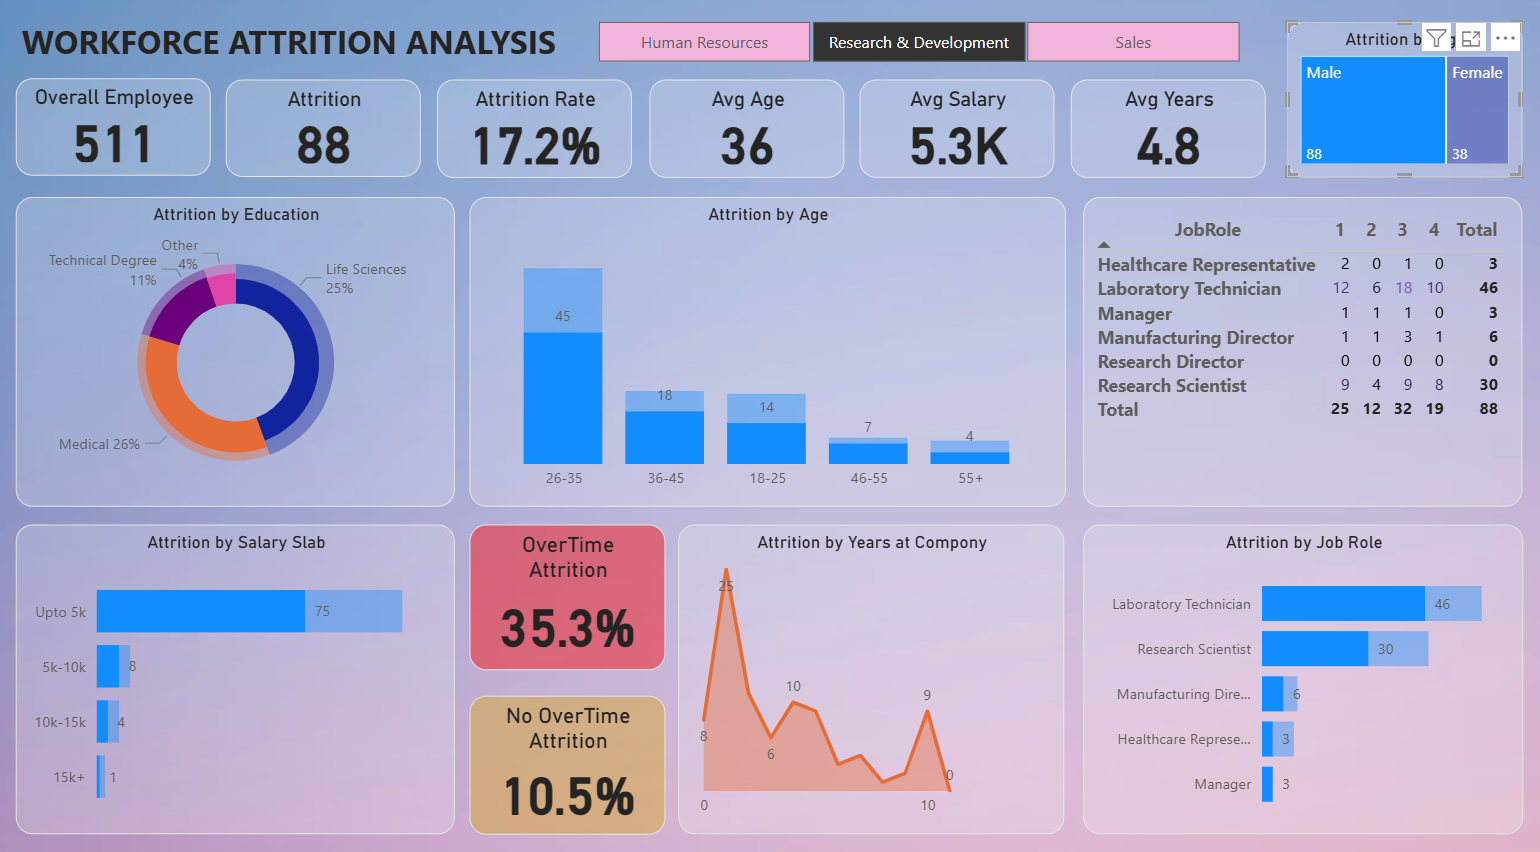

Layout of this report page (visuals, bound fields, positions):
{"tool":"powerbi","page":{"name":"Page 1","canvas":[1280,720],"ordinal":0},"visuals":[{"type":"card","title":"Overall Employee","fields":{"Values":["Count(HR_Analytics.EmpID)"]},"box":[15.8,71.6,161.9,81],"z":0},{"type":"card","title":"Attrition","fields":{"Values":["Sum(HR_Analytics.Attrition Count)"]},"box":[190.1,72.9,161.9,81],"z":1000},{"type":"card","title":"Attrition Rate","fields":{"Values":["HR_Analytics.AttritionRate"]},"box":[365,72.7,161.9,81.2],"z":2000},{"type":"card","title":"Avg Age","fields":{"Values":["Avg(HR_Analytics.Age)"]},"box":[540.6,72.7,161.9,81.2],"z":3000},{"type":"card","title":"Avg Salary","fields":{"Values":["Avg(HR_Analytics.MonthlyIncome)"]},"box":[715,72.7,161.9,81.2],"z":4000},{"type":"card","title":"Avg Years","fields":{"Values":["Avg(HR_Analytics.YearsAtCompany)"]},"box":[890,72.7,161.9,81.2],"z":5000},{"type":"donutChart","title":"Attrition by Education","fields":{"Category":["HR_Analytics.EducationField"],"Y":["Sum(HR_Analytics.Attrition Count)"]},"box":[15.7,170,364.3,257.1],"z":6000},{"type":"columnChart","title":"Attrition by Age","fields":{"Category":["HR_Analytics.AgeGroup"],"Y":["Sum(HR_Analytics.Attrition Count)"]},"box":[391.4,170,494.3,257.1],"z":7000},{"type":"pivotTable","fields":{"Rows":["HR_Analytics.JobRole"],"Columns":["HR_Analytics.JobSatisfaction"],"Values":["Sum(HR_Analytics.Attrition Count)"]},"box":[900.2,170.2,363.6,256.6],"z":8000},{"type":"barChart","title":"Attrition by Salary Slab","fields":{"Category":["HR_Analytics.SalarySlab"],"Y":["Sum(HR_Analytics.Attrition Count)"]},"box":[15.7,441.4,364.3,257.1],"z":9000},{"type":"clusteredBarChart","title":"Attrition by Job Role","fields":{"Category":["HR_Analytics.JobRole"],"Y":["Sum(HR_Analytics.Attrition Count)"]},"box":[900.2,441.9,365,256.6],"z":10000},{"type":"areaChart","title":"Attrition by Years at Compony","fields":{"Category":["HR_Analytics.YearsAtCompany"],"Y":["Sum(HR_Analytics.Attrition Count)"]},"box":[565.1,441.8,320.1,256.7],"z":11000},{"type":"treemap","title":"Attrition by Age","fields":{"Group":["HR_Analytics.Gender"],"Values":["Sum(HR_Analytics.Attrition Count)"]},"box":[1069,24.7,194.9,129],"z":12000},{"type":"slicer","fields":{"Values":["HR_Analytics.Department"]},"box":[472.9,17.1,581.4,47.1],"z":13000},{"type":"textbox","box":[15.7,17.1,464.3,71.4],"z":14000},{"type":"card","title":"No OverTime Attrition","fields":{"Values":["HR_Analytics.Attrition Rate (OverTime No)"]},"box":[391.5,583.1,162.3,115.4],"z":15000},{"type":"card","title":"OverTime  Attrition","fields":{"Values":["HR_Analytics.Attrition Rate (OverTime Yes)"]},"box":[391.5,441.5,162.3,120.8],"z":16000}]}

Visuals, with their boxes in screenshot pixels (x1, y1, x2, y2), scaled from the page's 1280x720 canvas onto the 1540x852 screenshot:
"Overall Employee" card: <box>19,85,214,181</box>
"Attrition" card: <box>229,86,424,182</box>
"Attrition Rate" card: <box>439,86,634,182</box>
"Avg Age" card: <box>650,86,845,182</box>
"Avg Salary" card: <box>860,86,1055,182</box>
"Avg Years" card: <box>1071,86,1266,182</box>
"Attrition by Education" donutChart: <box>19,201,457,505</box>
"Attrition by Age" columnChart: <box>471,201,1066,505</box>
pivotTable - HR_Analytics.JobRole x HR_Analytics.JobSatisfaction: <box>1083,201,1521,505</box>
"Attrition by Salary Slab" barChart: <box>19,522,457,827</box>
"Attrition by Job Role" clusteredBarChart: <box>1083,523,1522,827</box>
"Attrition by Years at Compony" areaChart: <box>680,523,1065,827</box>
"Attrition by Age" treemap: <box>1286,29,1521,182</box>
slicer - HR_Analytics.Department: <box>569,20,1268,76</box>
textbox: <box>19,20,578,105</box>
"No OverTime Attrition" card: <box>471,690,666,827</box>
"OverTime  Attrition" card: <box>471,522,666,665</box>
